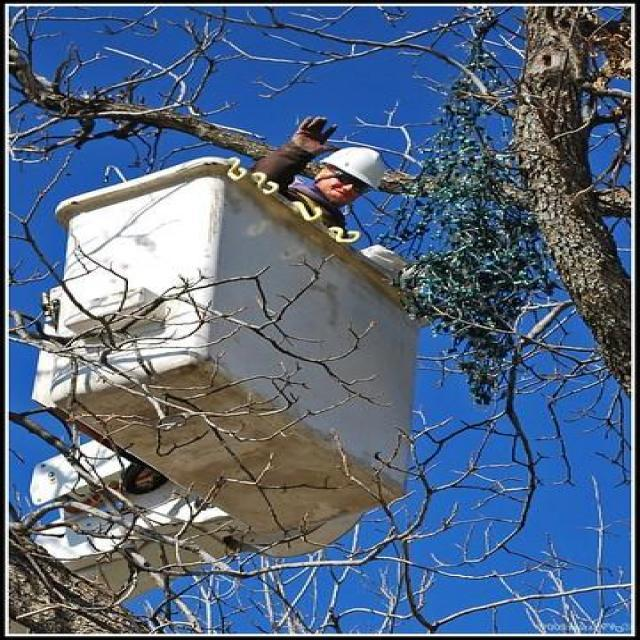safety_helmet: (312, 142, 396, 193)
